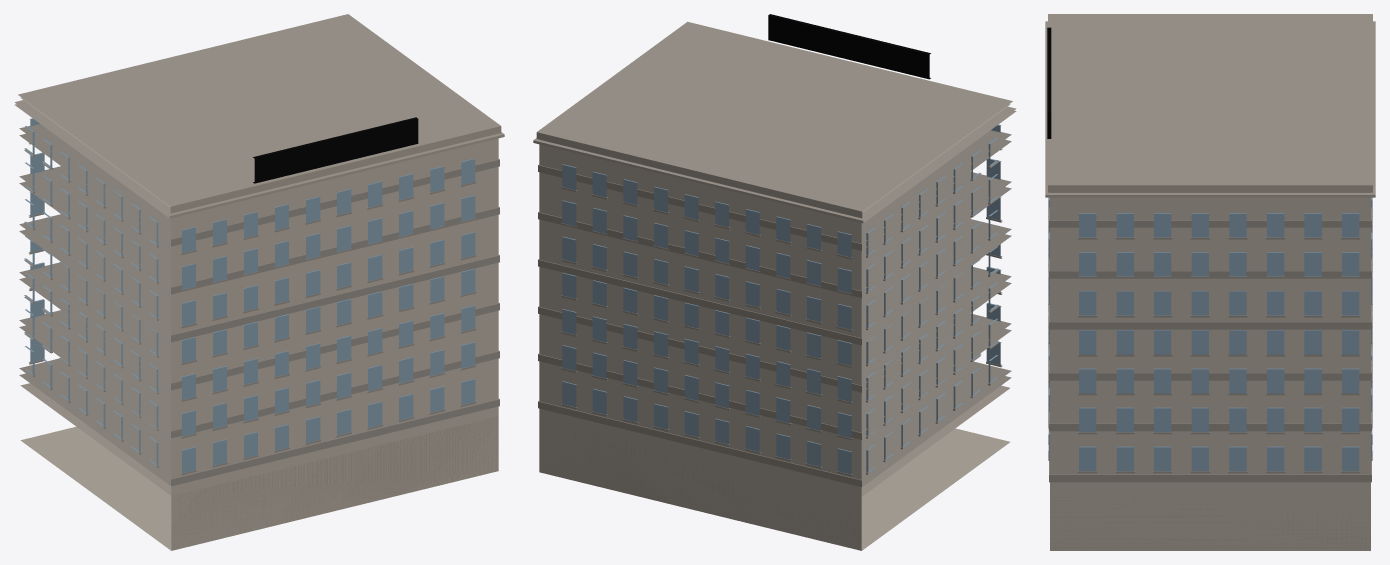
File: office_corporate_block.glb
3 views of the same model, side by side, from view 1: azimuth 30°, elevation 25°; view 2: azimuth 150°, elevation 25°; view 3: azimuth 270°, elevation 25° (orthographic). The views are drawn at different scales.
Parts seen in each view (by area): view 1: office_corporate_block; view 2: office_corporate_block; view 3: office_corporate_block.
Boxes of the visible parts, <box> form: office_corporate_block: <box>14,14,504,550</box>; office_corporate_block: <box>533,14,1016,550</box>; office_corporate_block: <box>1045,14,1375,550</box>.
Bounding box in the file's own units: 30.7 × 32.7 × 24.7.
